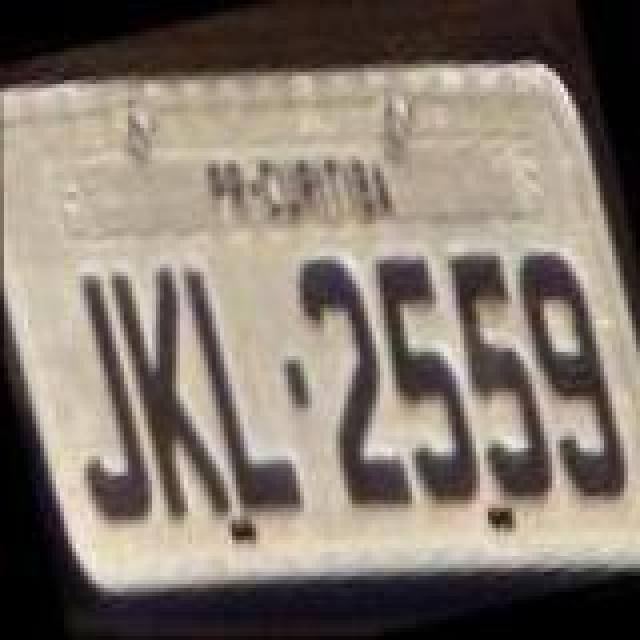2: (292, 242, 420, 522)
5: (438, 240, 562, 516), (368, 244, 488, 516)
9: (510, 236, 634, 516)
J: (40, 264, 160, 536)
K: (112, 258, 232, 530)
L: (182, 252, 306, 524)
